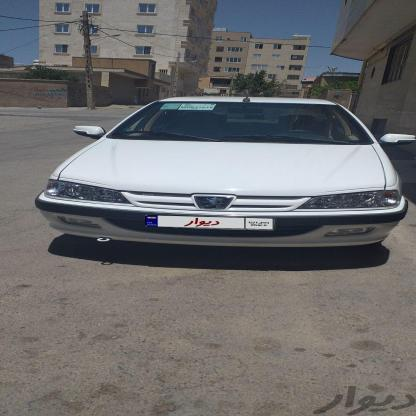Car: (17, 98, 416, 273)
